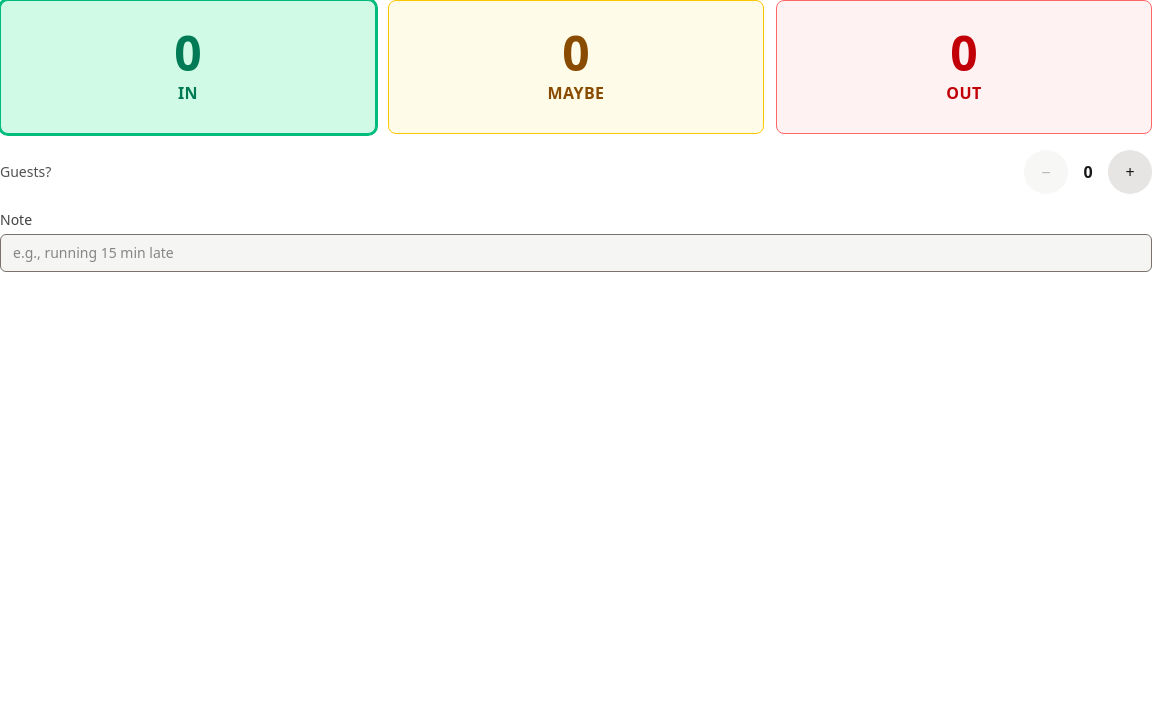
Test: RsvpControls › keeps the original status and does not submit when the dialog is cancelled
Click the button named "out count": (964, 67) [776,0,1151,134]
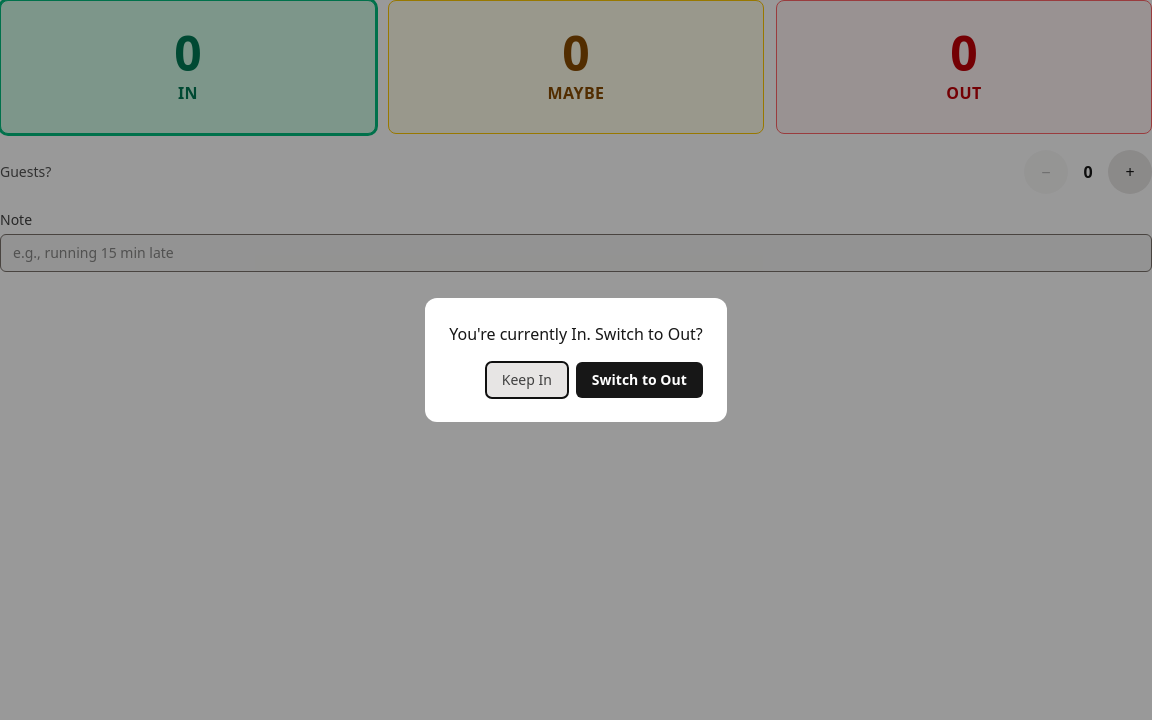
Click the button "Keep In": (527, 380) [486,362,568,398]
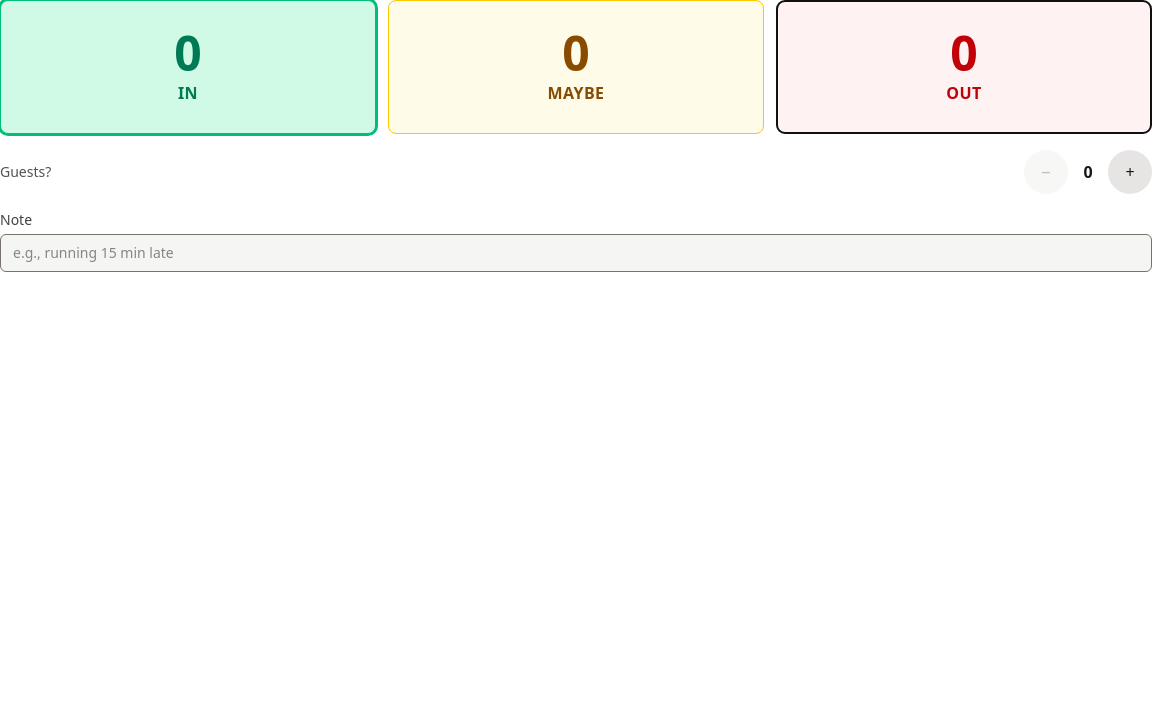
expect the dialog is gone: met
